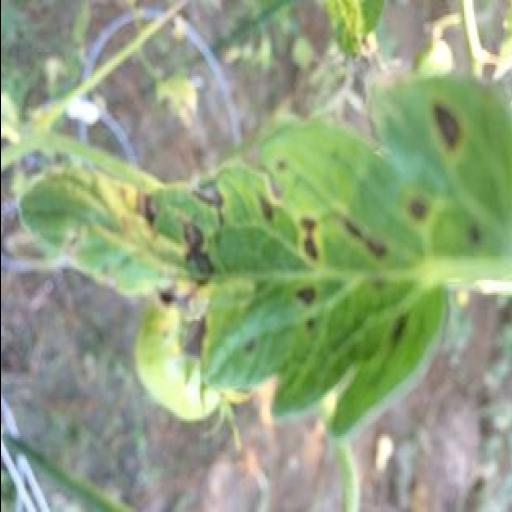Septoria: (20, 65, 510, 447)
